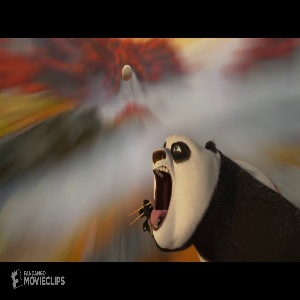po: (125, 128, 300, 263)
